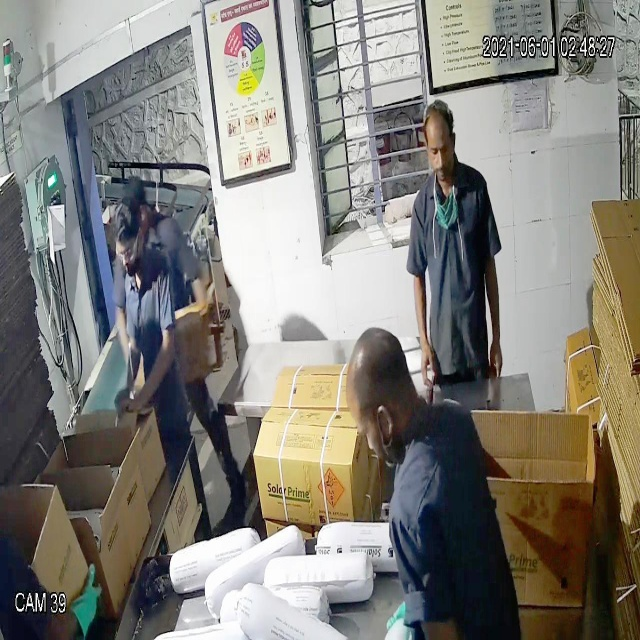Gafas: (106, 229, 149, 269)
Sin_gafas: (420, 133, 462, 166)
